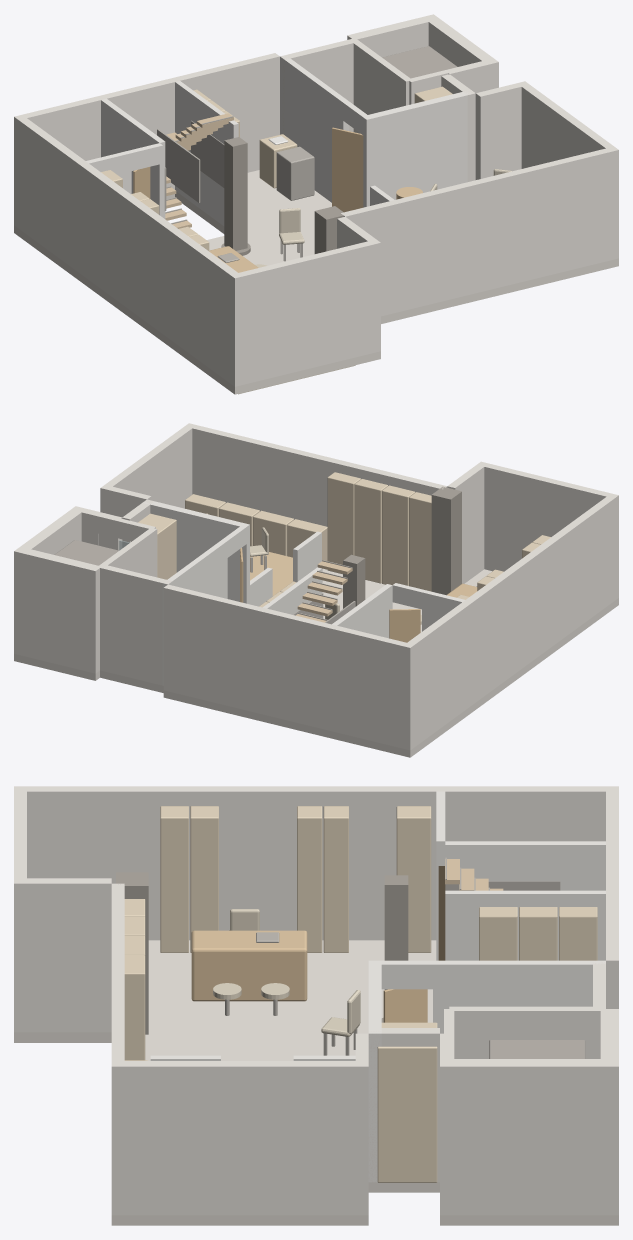
File: basement-wood.glb
3 renders of one model, top to bottom at view 1: azimuth 30°, elevation 25°; view 2: azimuth 150°, elevation 25°; view 3: azimuth 270°, elevation 25°, orthographic. The views are drawn at different scales.
Parts seen in each view (by area): view 1: B1_ExtWall_02_P00, B1_ExtWall_13_P00, B1_ExtWall_00_P00, B1_ExtWall_12_P00, B1_Slab, B1_Storage_South_P00, B1_Storage_West_P01, B1_ExtWall_03_P00, B1_ExtWall_04_P00, B1_Elevator_West, B1_Stair_Laundry_P00, B1_Bath_Stair_P00 (+19 smaller); view 2: B1_ExtWall_12_P00, B1_ExtWall_13_P00, B1_ExtWall_02_P00, B1_ExtWall_00_P00, B1_ExtWall_08_P00, B1_ExtWall_10_P00, B1_Slab, B1_ExtWall_03_P00, B1_Storage_South_P00, B1_Structure_Column_1, B1_ExtWall_01_P00, B1_South_Main_Cabinets_M02 (+29 smaller); view 3: B1_ExtWall_13_P00, B1_ExtWall_03_P00, B1_ExtWall_07_P00, B1_Slab, B1_ExtWall_01_P00, B1_Storage_SE_Cabinet, B1_Storage_West_P01, B1_Tea_Bar, B1_Bath_Stair_P00, B1_Elevator_West, B1_Stair_Laundry_P00, B1_ExtWall_02_P00 (+26 smaller).
Boxes of the visible parts, <box> form: B1_ExtWall_02_P00: <box>341,148,616,316</box>; B1_ExtWall_13_P00: <box>14,117,242,386</box>; B1_ExtWall_00_P00: <box>230,239,380,386</box>; B1_ExtWall_12_P00: <box>14,53,279,189</box>; B1_Slab: <box>14,170,618,394</box>; B1_Storage_South_P00: <box>368,90,475,199</box>; B1_Storage_West_P01: <box>280,55,348,202</box>; B1_ExtWall_03_P00: <box>517,81,618,260</box>; B1_ExtWall_04_P00: <box>475,83,521,179</box>; B1_Elevator_West: <box>351,38,410,133</box>; B1_Stair_Laundry_P00: <box>175,81,238,225</box>; B1_Bath_Stair_P00: <box>101,98,165,218</box>; B1_ExtWall_12_P00: <box>167,584,414,749</box>; B1_ExtWall_13_P00: <box>402,495,618,750</box>; B1_ExtWall_02_P00: <box>185,423,447,526</box>; B1_ExtWall_00_P00: <box>477,461,618,597</box>; B1_ExtWall_08_P00: <box>14,548,99,673</box>; B1_ExtWall_10_P00: <box>100,565,172,685</box>; B1_Slab: <box>14,568,618,757</box>; B1_ExtWall_03_P00: <box>100,423,195,512</box>; B1_Storage_South_P00: <box>143,501,244,601</box>; B1_Structure_Column_1: <box>431,486,461,594</box>; B1_ExtWall_01_P00: <box>447,462,486,583</box>; B1_South_Main_Cabinets_M02: <box>382,485,415,585</box>; B1_ExtWall_13_P00: <box>14,786,618,940</box>; B1_ExtWall_03_P00: <box>111,1061,368,1215</box>; B1_ExtWall_07_P00: <box>440,1061,618,1215</box>; B1_Slab: <box>14,940,618,1225</box>; B1_ExtWall_01_P00: <box>14,878,111,1032</box>; B1_Storage_SE_Cabinet: <box>377,1022,437,1182</box>; B1_Storage_West_P01: <box>433,960,605,1033</box>; B1_Tea_Bar: <box>191,930,307,1001</box>; B1_Bath_Stair_P00: <box>445,841,605,890</box>; B1_Elevator_West: <box>449,1006,605,1058</box>; B1_Stair_Laundry_P00: <box>445,890,605,960</box>; B1_ExtWall_02_P00: <box>111,883,124,1215</box>.
Size of the model in its own units: 10.2 by 3.02 by 9.3.
